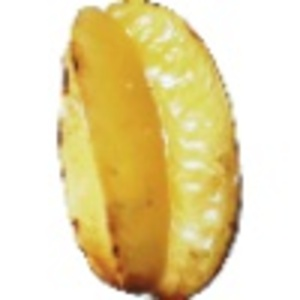carambola: (56, 1, 245, 300)
